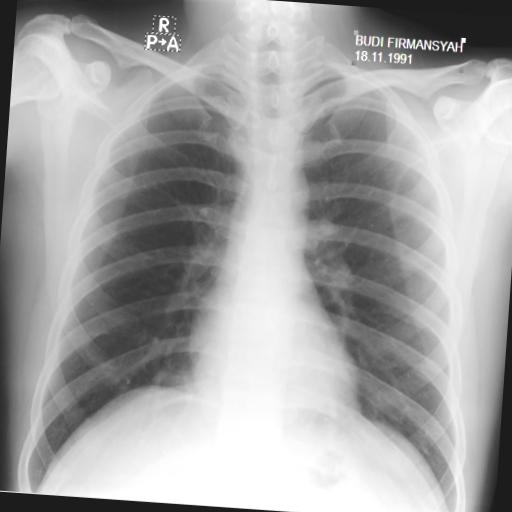normal: (15, 17, 502, 512)
